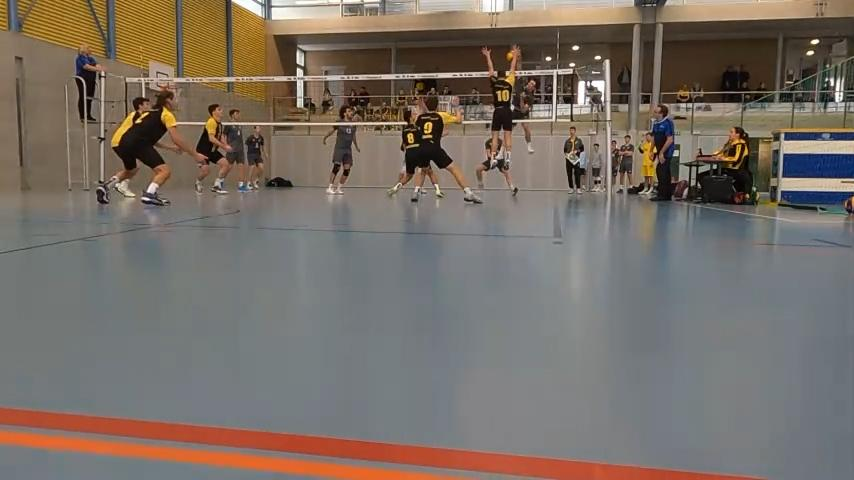attacco: (495, 43, 536, 157)
muro: (481, 47, 527, 169)
